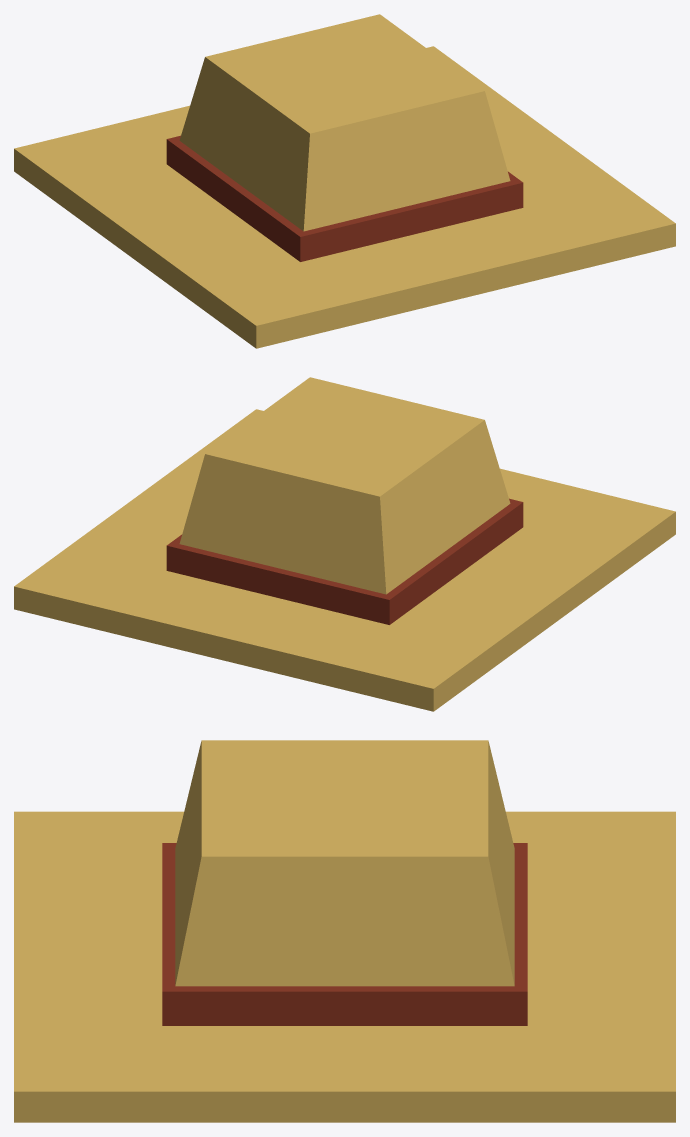
The model's file is hat_straw.glb.
3 renders of one model, top to bottom at view 1: azimuth 30°, elevation 25°; view 2: azimuth 150°, elevation 25°; view 3: azimuth 270°, elevation 25°, orthographic. The views are drawn at different scales.
Visible parts, largest first — view 1: straw; view 2: straw; view 3: straw.
Part boxes in pixels (<box>): straw: <box>14,14,675,348</box>; straw: <box>14,377,675,711</box>; straw: <box>14,740,675,1122</box>.
Size of the model in its own units: 0.48 by 0.1475 by 0.48.
